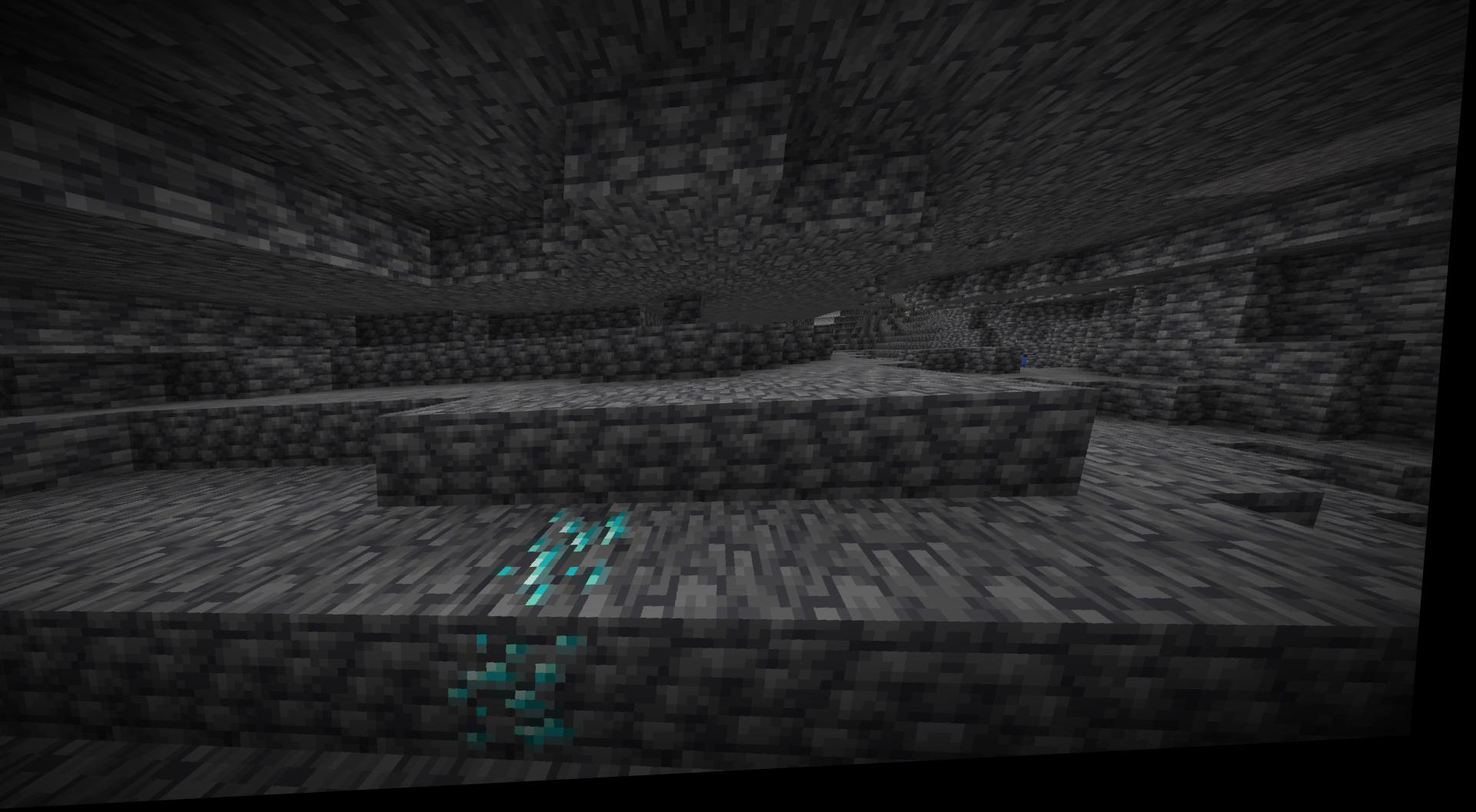diamond ore: (448, 634, 606, 763), (491, 512, 644, 608)
